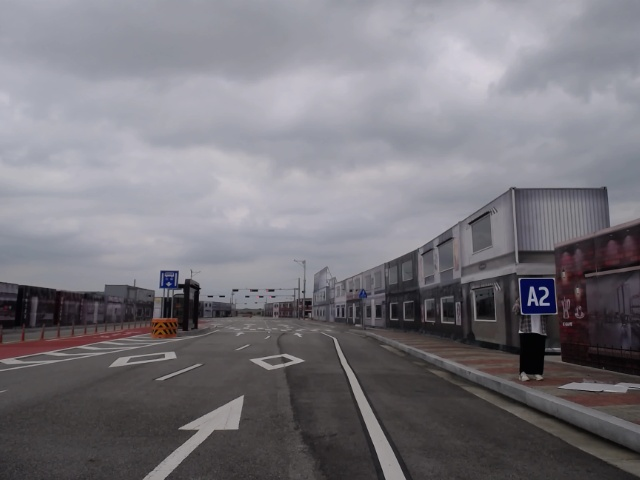delivery_a2: (519, 278, 557, 315)
